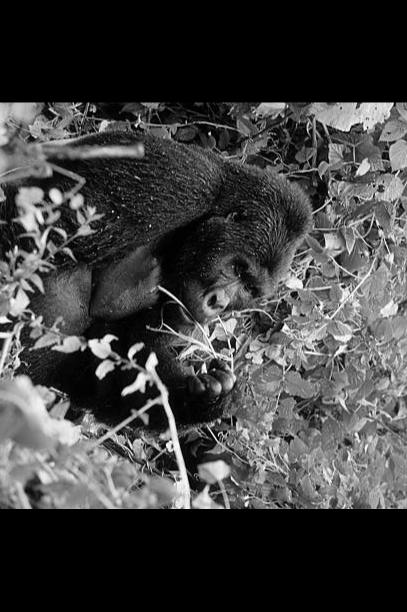goriile_montagne: (0, 154, 327, 479)
